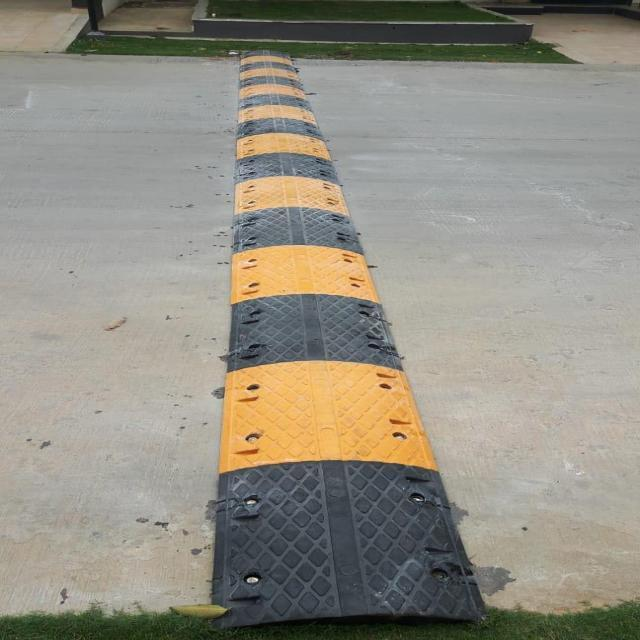speedbreaker: (136, 46, 502, 624)
